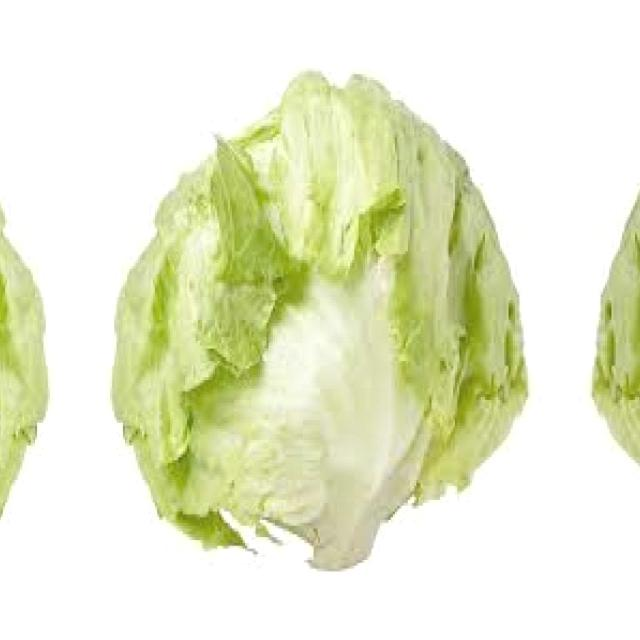healthy: (108, 58, 528, 578), (0, 58, 53, 578), (592, 58, 640, 578)
